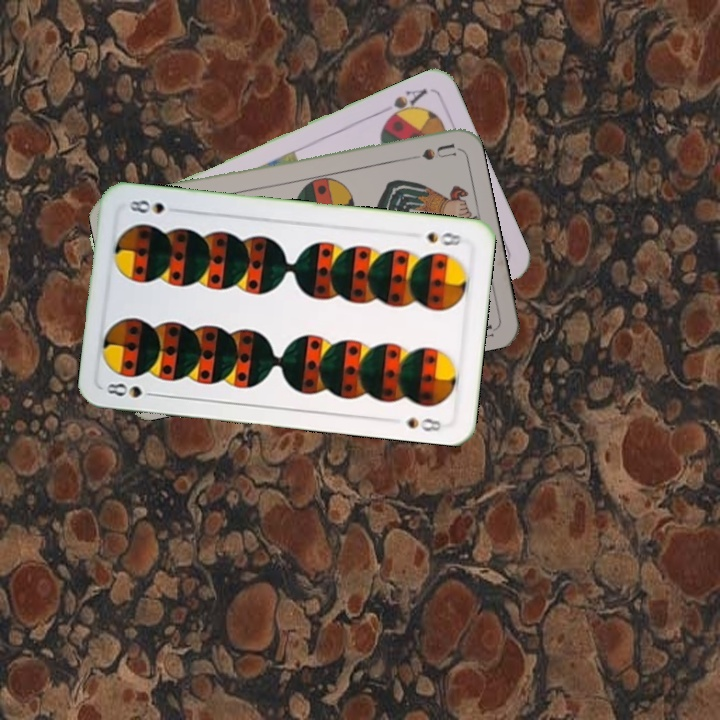S8: (102, 379, 161, 401), (423, 228, 464, 249)
SA: (376, 84, 430, 125)
SU: (418, 139, 458, 163)
